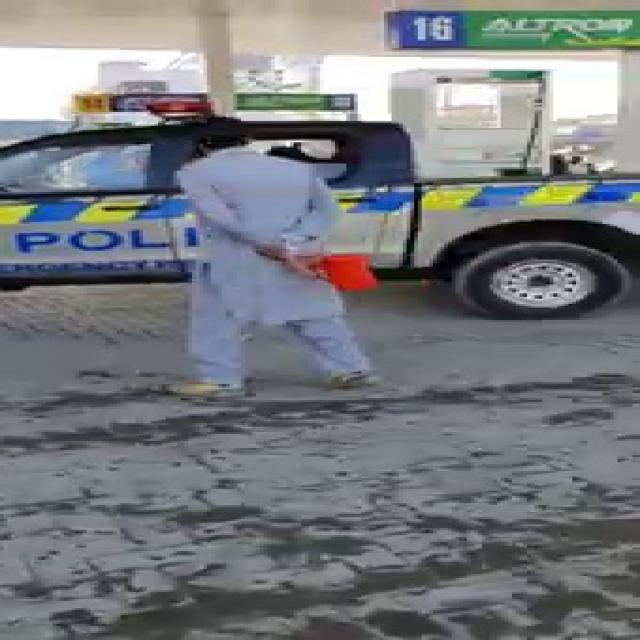police: (0, 71, 640, 313)
